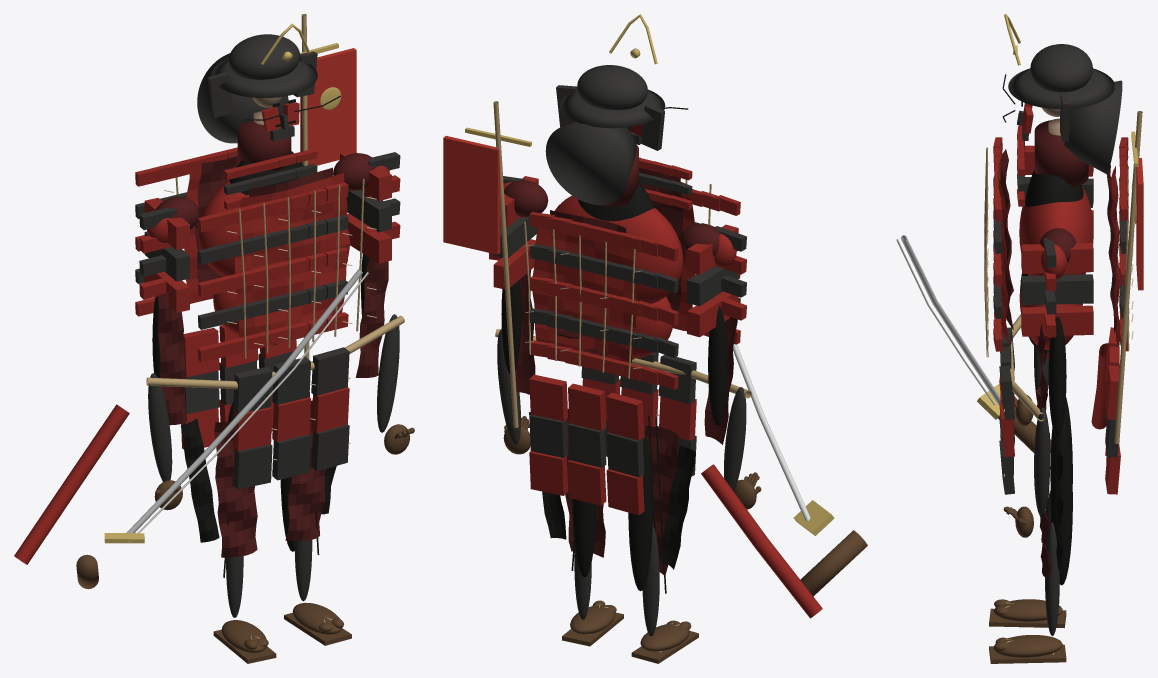
Rendered from samurai_character.glb.
3 views of the same model, side by side, from view 1: azimuth 30°, elevation 25°; view 2: azimuth 150°, elevation 25°; view 3: azimuth 270°, elevation 25° (orthographic).
Parts seen in each view (by area): view 1: curved front lacquer torso overlay, cloth sashimono banner panel, left broad creased hakama outer cloth, lacquered saya scabbard at left hip, left creased hanging sleeve cloth, right broad creased hakama outer cloth, compact segmented kabuto helmet bowl, right creased hanging sleeve cloth, drawn katana blade spine, layered rear shikoro neck guard, left deep sculpted side hakama fold, thin kabuto brim (+40 smaller); view 2: curved rear lacquer torso overlay, cloth sashimono banner panel, layered rear shikoro neck guard, subdued upper do cuirass fitted shell, lacquered saya scabbard at left hip, compact segmented kabuto helmet bowl, left broad creased hakama outer cloth, left hidden hakama trouser leg volume, left deep sculpted side hakama fold, thin kabuto brim, left hidden upper arm volume, bamboo sashimono back pole (+42 smaller); view 3: layered rear shikoro neck guard, subdued upper do cuirass fitted shell, compact segmented kabuto helmet bowl, thin kabuto brim, right hidden hakama trouser leg volume, neck guard collar, right side cuirass plate 2, bamboo sashimono back pole, right side cuirass plate 3, right hidden upper arm volume, right kote forearm guard, ribcage under-kimono volume (+34 smaller).
Boxes of the visible parts, x1,y1,x2,y2 form: curved front lacquer torso overlay: (235, 173, 350, 337); cloth sashimono banner panel: (300, 48, 356, 165); left broad creased hakama outer cloth: (214, 421, 257, 557); lacquered saya scabbard at left hip: (14, 404, 129, 564); left creased hanging sleeve cloth: (158, 292, 187, 425); right broad creased hakama outer cloth: (285, 400, 326, 540); compact segmented kabuto helmet bowl: (229, 34, 300, 79); right creased hanging sleeve cloth: (355, 258, 388, 377); drawn katana blade spine: (124, 269, 362, 542); layered rear shikoro neck guard: (197, 53, 288, 143); left deep sculpted side hakama fold: (180, 419, 219, 542); thin kabuto brim: (211, 59, 317, 97); curved rear lacquer torso overlay: (532, 225, 636, 363); cloth sashimono banner panel: (443, 136, 500, 254); layered rear shikoro neck guard: (545, 122, 636, 205); subdued upper do cuirass fitted shell: (555, 195, 683, 303); lacquered saya scabbard at left hip: (701, 464, 822, 618); compact segmented kabuto helmet bowl: (577, 65, 647, 110); left broad creased hakama outer cloth: (645, 426, 678, 575); left hidden hakama trouser leg volume: (628, 431, 652, 591); left deep sculpted side hakama fold: (661, 445, 695, 569); thin kabuto brim: (560, 89, 665, 128); left hidden upper arm volume: (708, 305, 727, 425); bamboo sashimono back pole: (493, 101, 518, 427); layered rear shikoro neck guard: (1064, 80, 1122, 174); subdued upper do cuirass fitted shell: (1019, 186, 1093, 275); compact segmented kabuto helmet bowl: (1030, 44, 1092, 92); thin kabuto brim: (1008, 68, 1114, 109); right hidden hakama trouser leg volume: (1050, 420, 1072, 585); neck guard collar: (1034, 120, 1088, 187); right side cuirass plate 2: (1021, 274, 1093, 305); bamboo sashimono back pole: (1114, 111, 1142, 443); right side cuirass plate 3: (1021, 305, 1093, 336); right hidden upper arm volume: (1048, 316, 1066, 437); right kote forearm guard: (1034, 408, 1050, 516); ribcage under-kimono volume: (1025, 170, 1083, 206).
Size of what is drawn, in the model's own units: 1.63 by 2.68 by 0.963.
